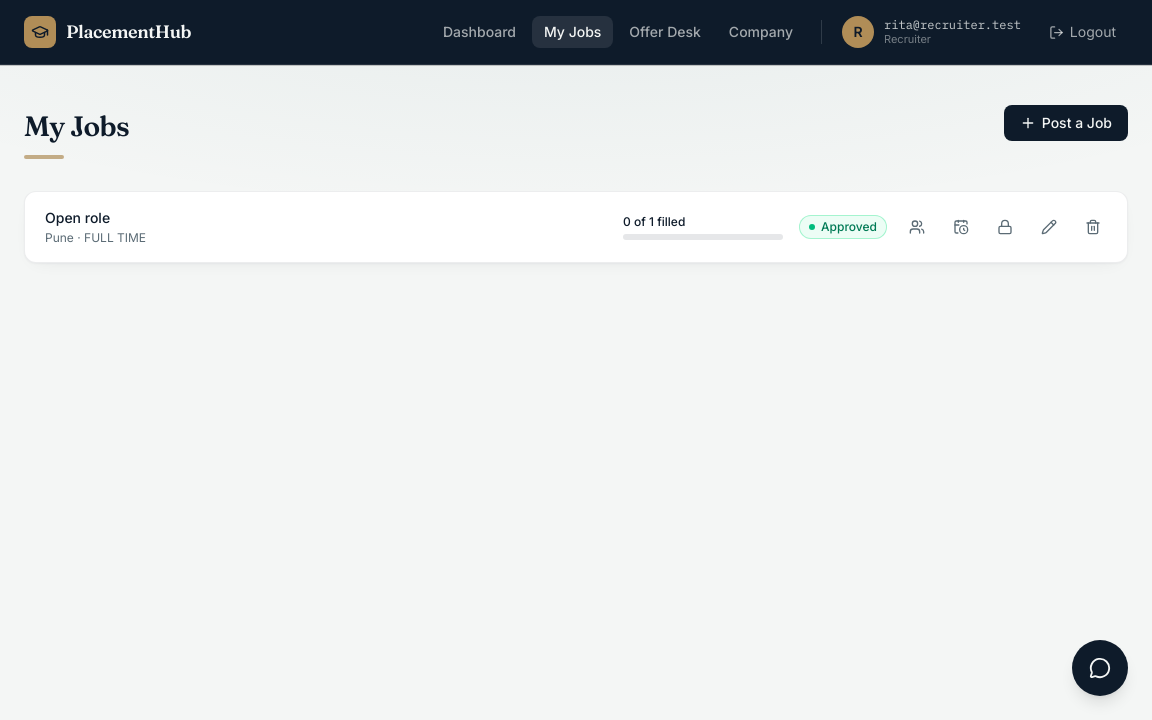
Test: My jobs page › closes a job after confirmation and reloads the list
This screenshot has width=1152, height=720.
Click the button titled "Close applications" at {"x": 1005, "y": 227}, box x1=991 y1=213 x2=1019 y2=241
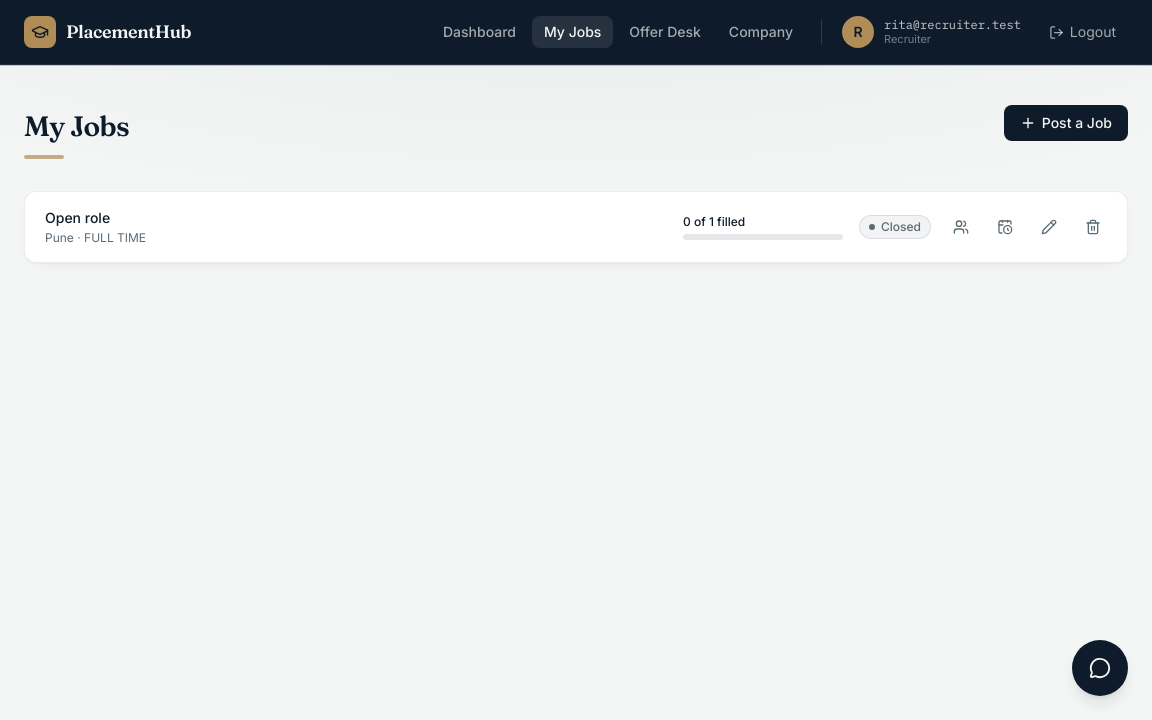
Result: the text "CLOSED" is shown at x1=881 y1=219 x2=921 y2=235
